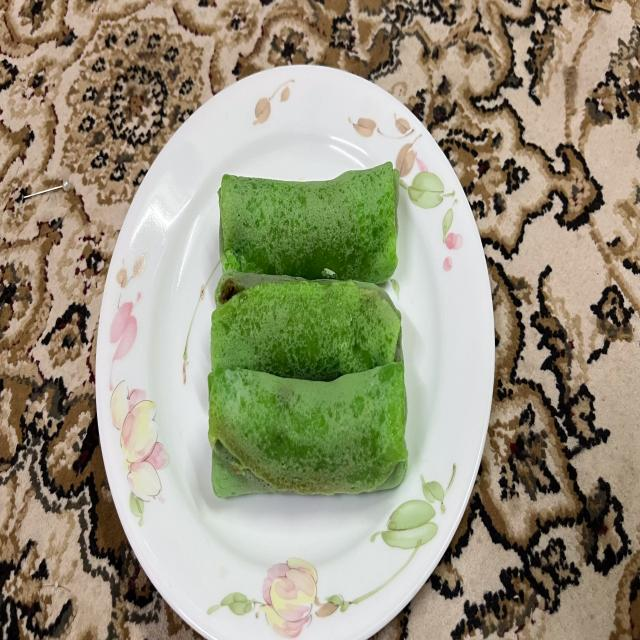Kuih-Ketayap: (209, 362, 408, 498), (219, 162, 399, 284), (211, 271, 402, 380)
